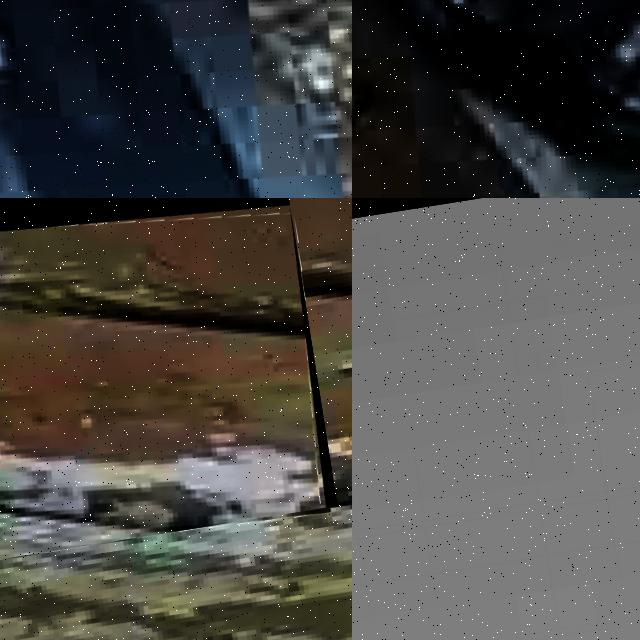drone: (0, 198, 337, 582), (0, 0, 352, 198), (352, 0, 640, 198)
